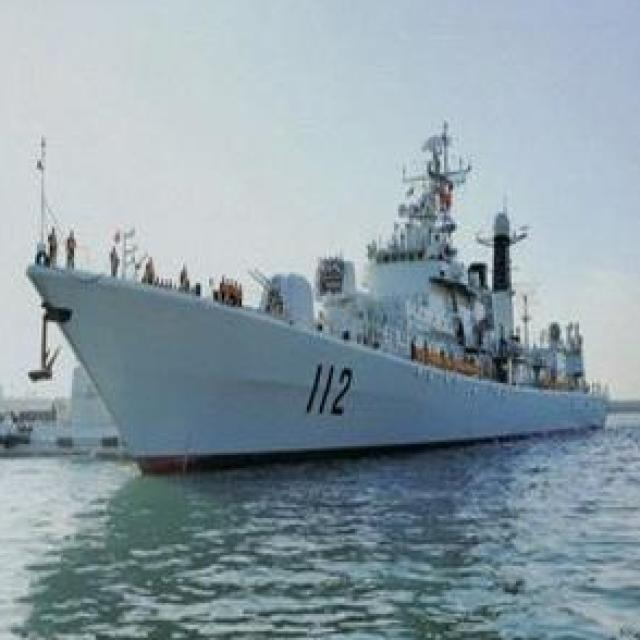navalvessels: (24, 108, 614, 458)
